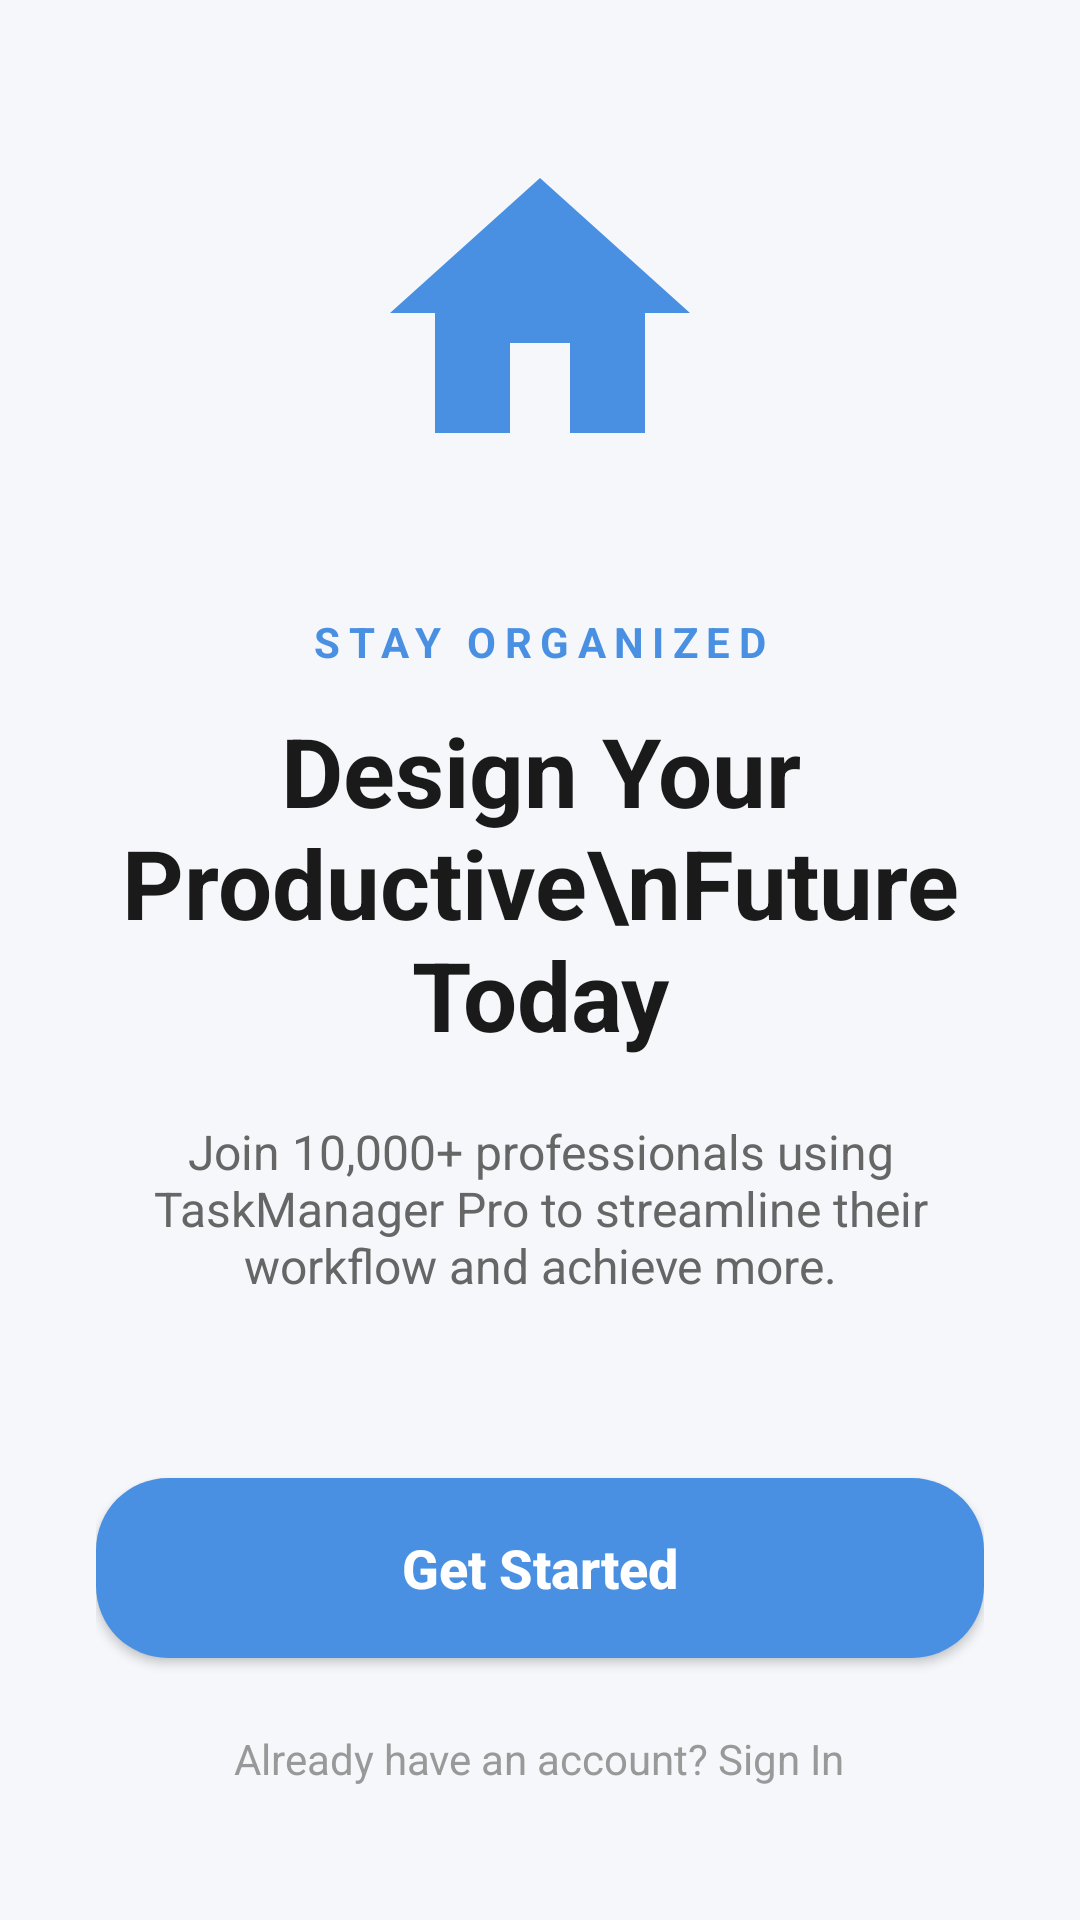

Where icons sit on this 1080x1920 app screen, as region(x1, y1, x2, y2):
home: region(390, 178, 690, 433)
